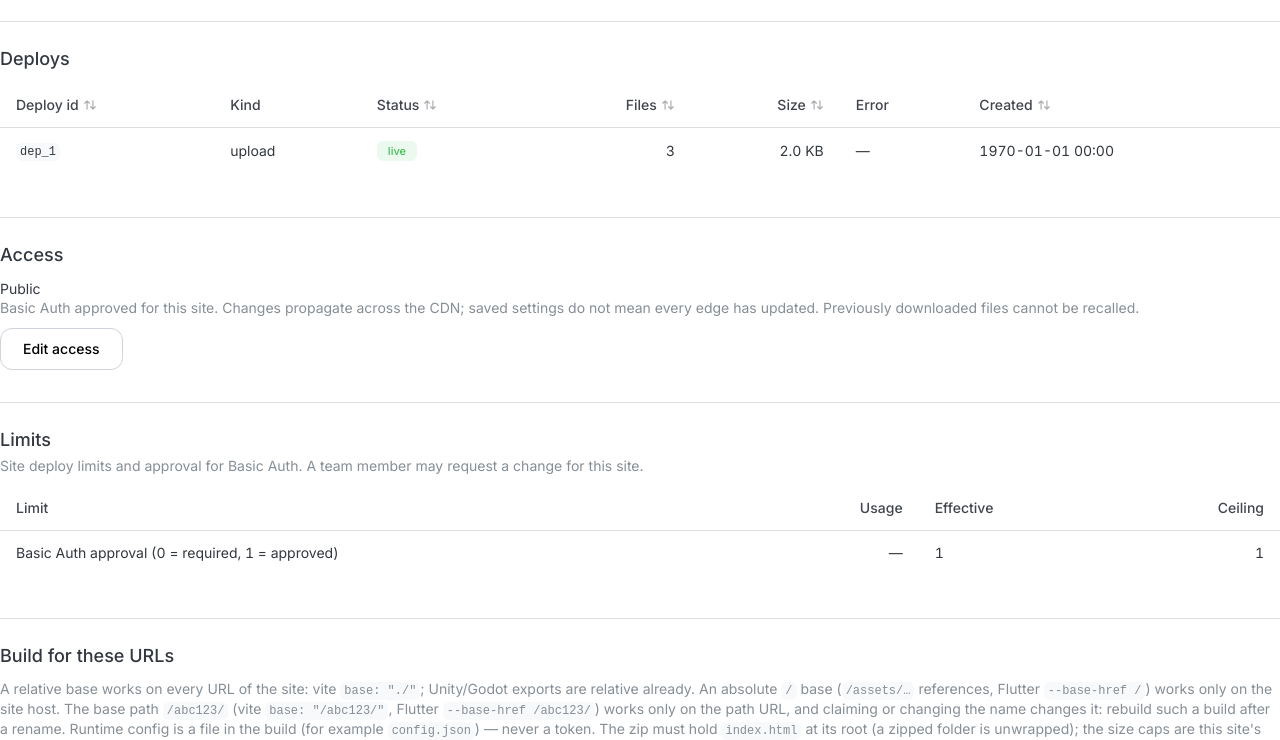
Test: SitePage › keeps errors inline without presenting a saved notice
(page scrolled)
What coordinates should you click on to do the following:
click the button "Edit access"
I would click on:
 (61, 349)
Its box is [0,328,122,370].
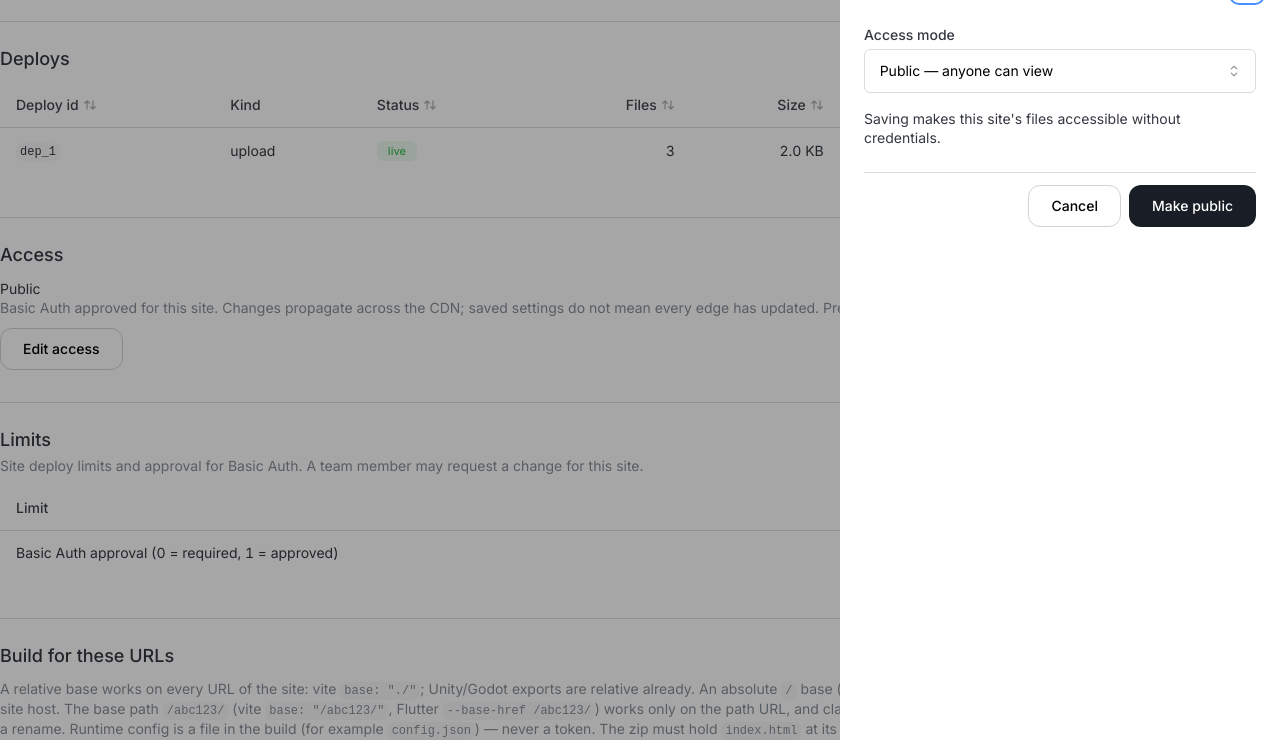
What coordinates should you click on to do the following:
click the button "Make public"
I would click on:
 (1192, 206)
Its box is [1129,185,1256,227].
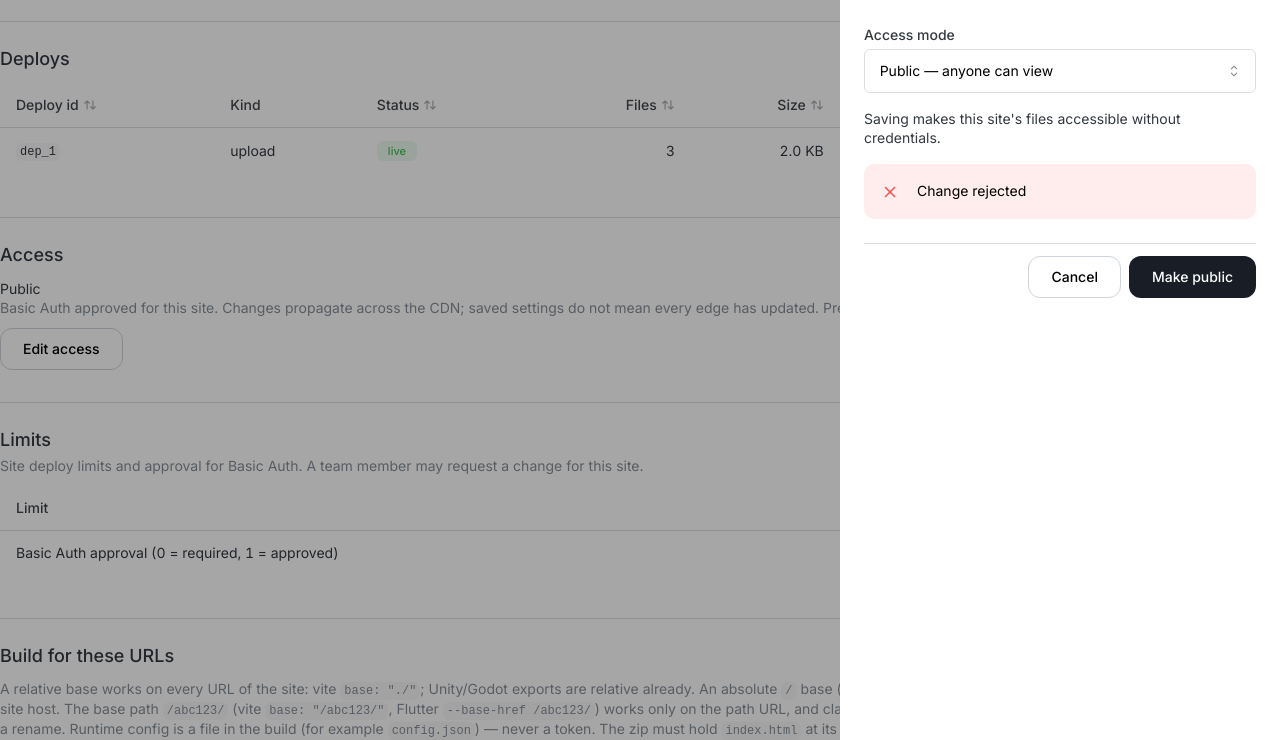
Expected: the text "Change rejected" is shown, [917,182,1026,199]
